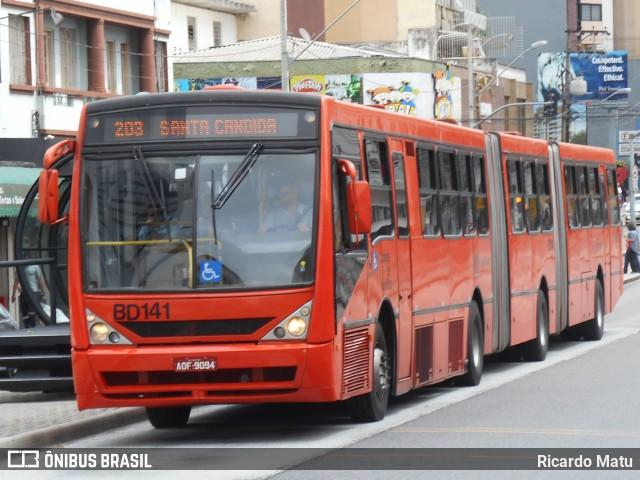SANTA CANDIDA: (154, 115, 282, 139)
